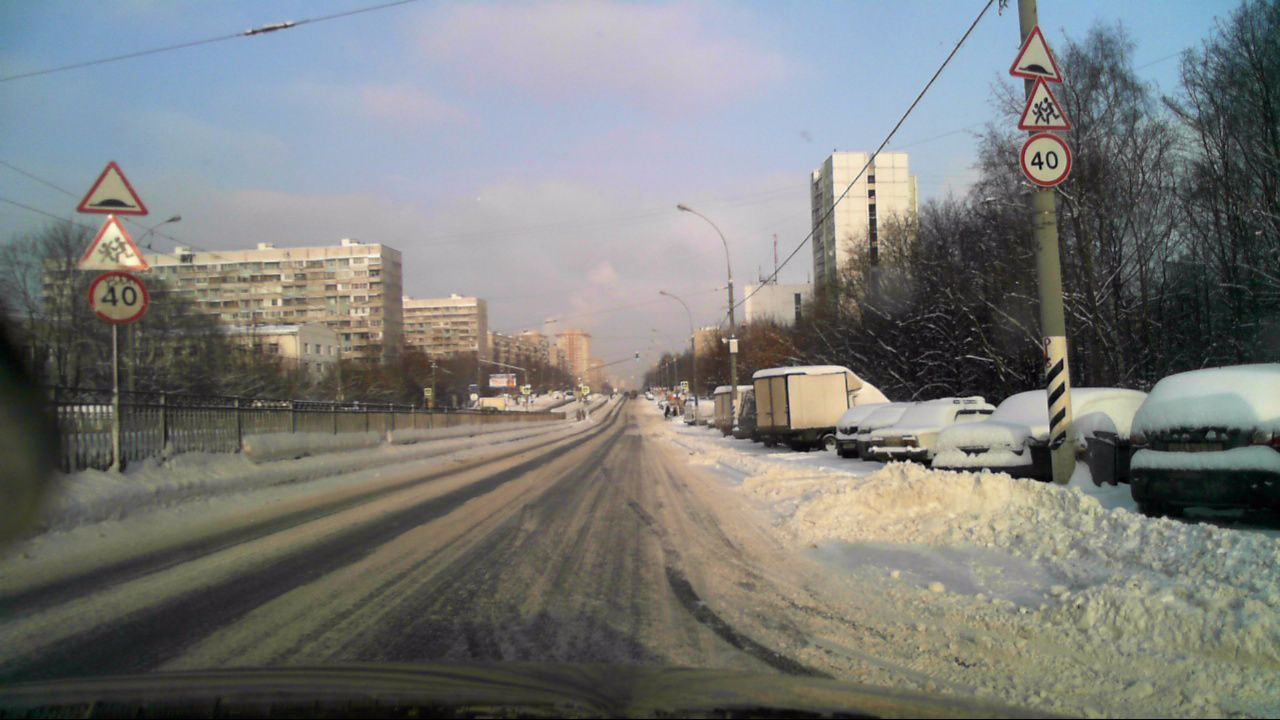speed_warning_40: (87, 276, 152, 325)
